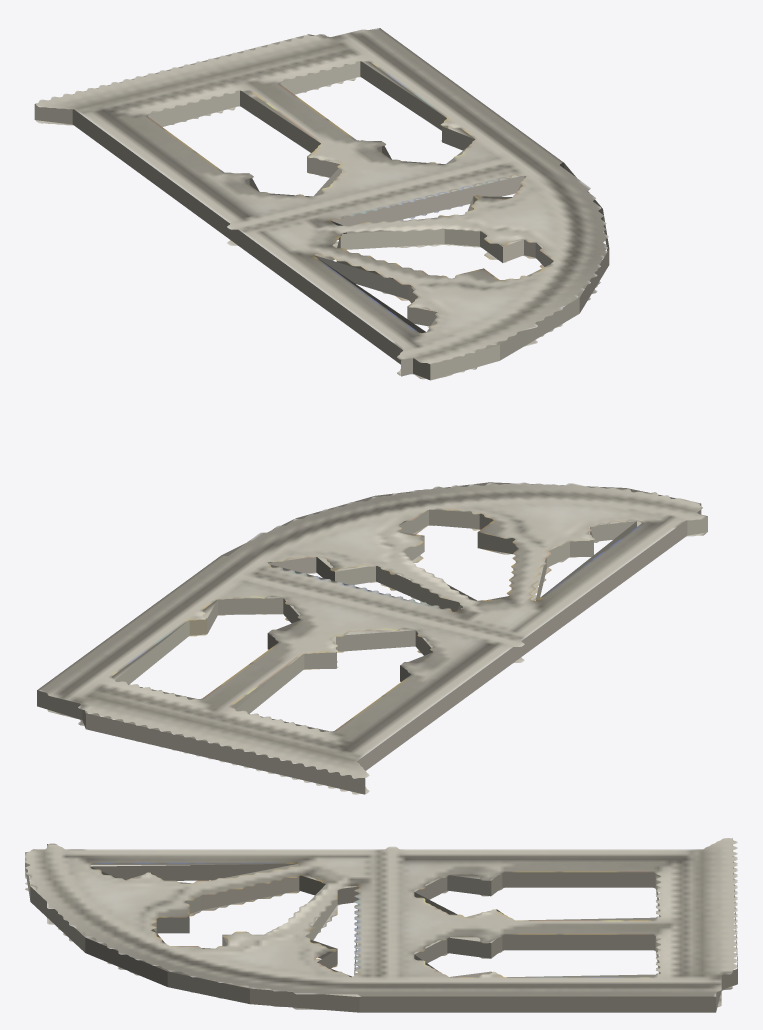
Rendered from pz_native_fixtures_windows_church_3_frame.obj.
3 views of the same model, one above another, from view 1: azimuth 30°, elevation 25°; view 2: azimuth 150°, elevation 25°; view 3: azimuth 270°, elevation 25° (orthographic). The views are drawn at different scales.
Visible parts, largest first — view 1: pz_native_fixtures_windows_church_3_frame; view 2: pz_native_fixtures_windows_church_3_frame; view 3: pz_native_fixtures_windows_church_3_frame.
Part boxes in pixels (left/top/right/bottom): pz_native_fixtures_windows_church_3_frame: left=34, top=28, right=609, bottom=380; pz_native_fixtures_windows_church_3_frame: left=37, top=482, right=707, bottom=794; pz_native_fixtures_windows_church_3_frame: left=25, top=838, right=737, bottom=1012.
Size of the model in its own units: 0.9219 by 0.04 by 1.71.
1 material, 1 textured.
